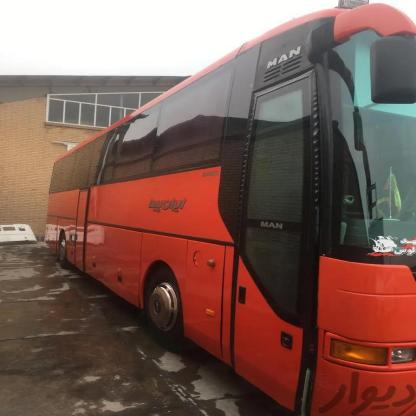Bus: (38, 0, 416, 410)
